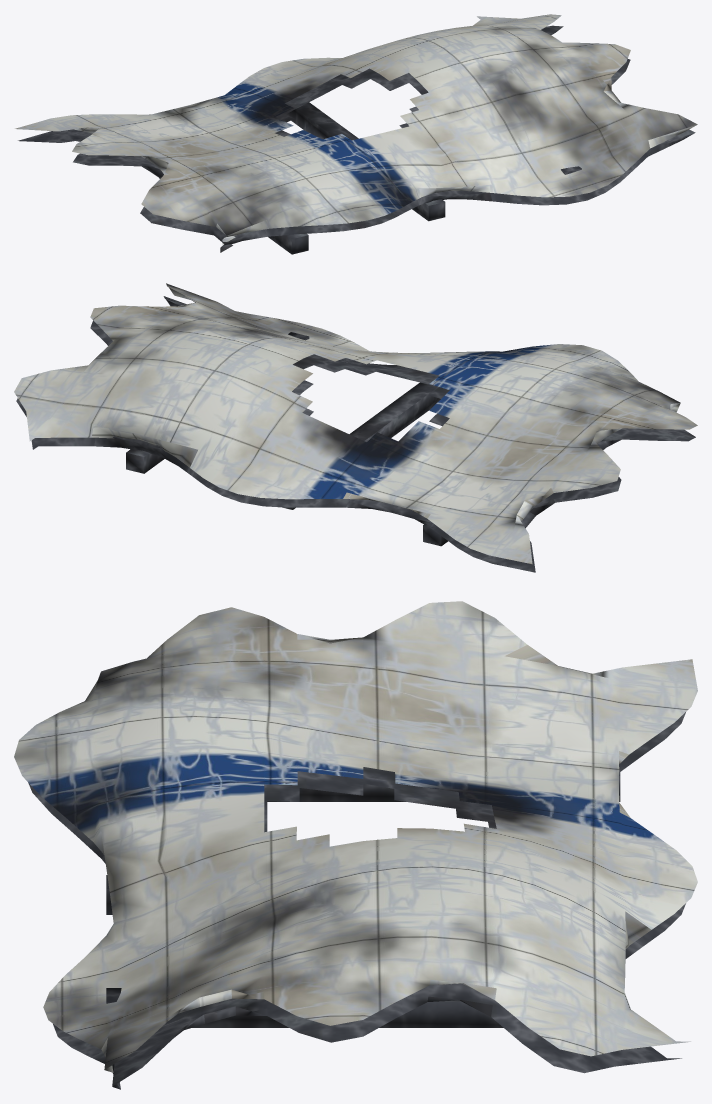
File: plane_panel_debris.glb
3 renders of one model, top to bottom at view 1: azimuth 30°, elevation 25°; view 2: azimuth 150°, elevation 25°; view 3: azimuth 270°, elevation 25°, orthographic. The views are drawn at different scales.
Parts seen in each view (by area): view 1: plane_panel_debris; view 2: plane_panel_debris; view 3: plane_panel_debris.
Part boxes in pixels (x1,y1,x2,y2): plane_panel_debris: [15, 14, 697, 254]; plane_panel_debris: [14, 283, 697, 572]; plane_panel_debris: [14, 601, 697, 1089].
Size of what is drawn, in the model's own units: 2.48 by 0.3567 by 1.66.
2 materials, 2 textured.
